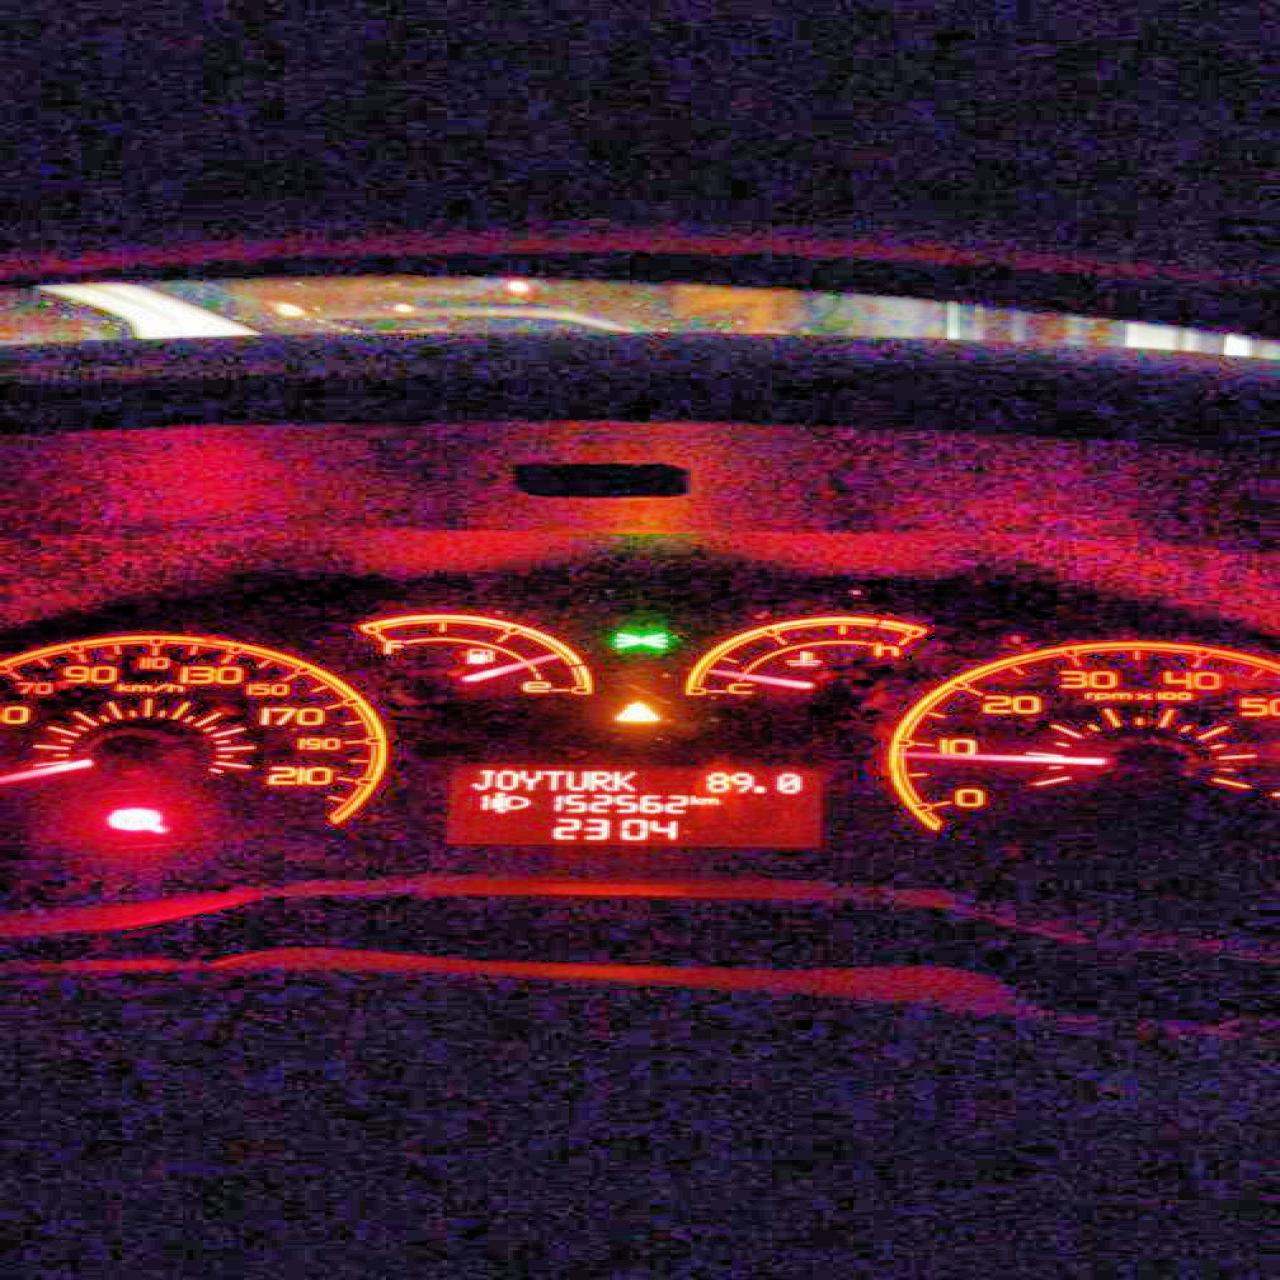-: (753, 783, 767, 794)
0: (772, 770, 803, 794), (618, 818, 648, 840)
1: (549, 794, 561, 812), (477, 792, 488, 812)
2: (549, 816, 579, 840), (587, 792, 612, 812), (663, 792, 686, 812)
3: (581, 816, 610, 840)
4: (648, 817, 679, 838)
5: (612, 792, 638, 812), (561, 792, 587, 811)
6: (638, 792, 662, 812)
8: (703, 769, 729, 792)
9: (729, 770, 753, 791)
X: (610, 769, 638, 791), (492, 769, 518, 790), (586, 769, 610, 791), (518, 768, 542, 790), (468, 769, 492, 790), (564, 769, 586, 790), (542, 769, 564, 790), (701, 796, 719, 805), (688, 794, 701, 805)
odometer: (442, 760, 828, 849)
